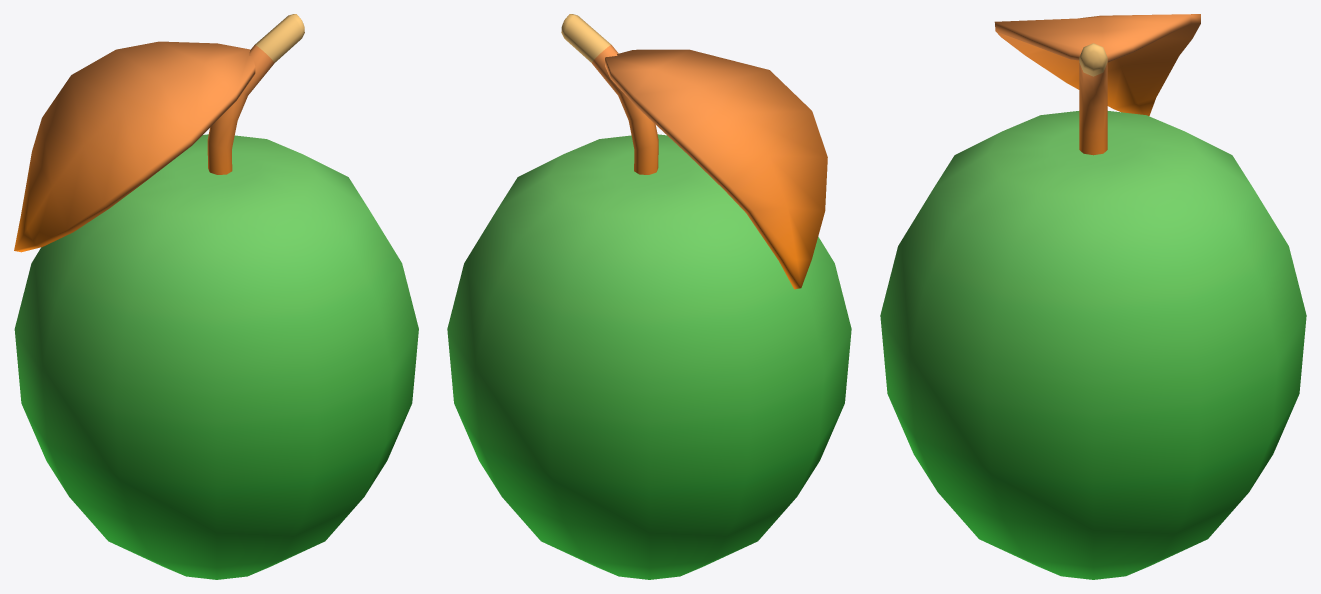
The model's file is Plum_red.fbx.
The picture shows the model from 3 angles, left to right: view 1: azimuth 30°, elevation 25°; view 2: azimuth 150°, elevation 25°; view 3: azimuth 270°, elevation 25°; orthographic projection. The views are drawn at different scales.
Parts seen in each view (by area): view 1: Plum_red; view 2: Plum_red; view 3: Plum_red.
Part boxes in pixels (<box>): Plum_red: <box>14,14,418,579</box>; Plum_red: <box>447,14,851,579</box>; Plum_red: <box>880,14,1306,579</box>.
Bounding box in the file's own units: 72.76 × 105 × 72.29.
